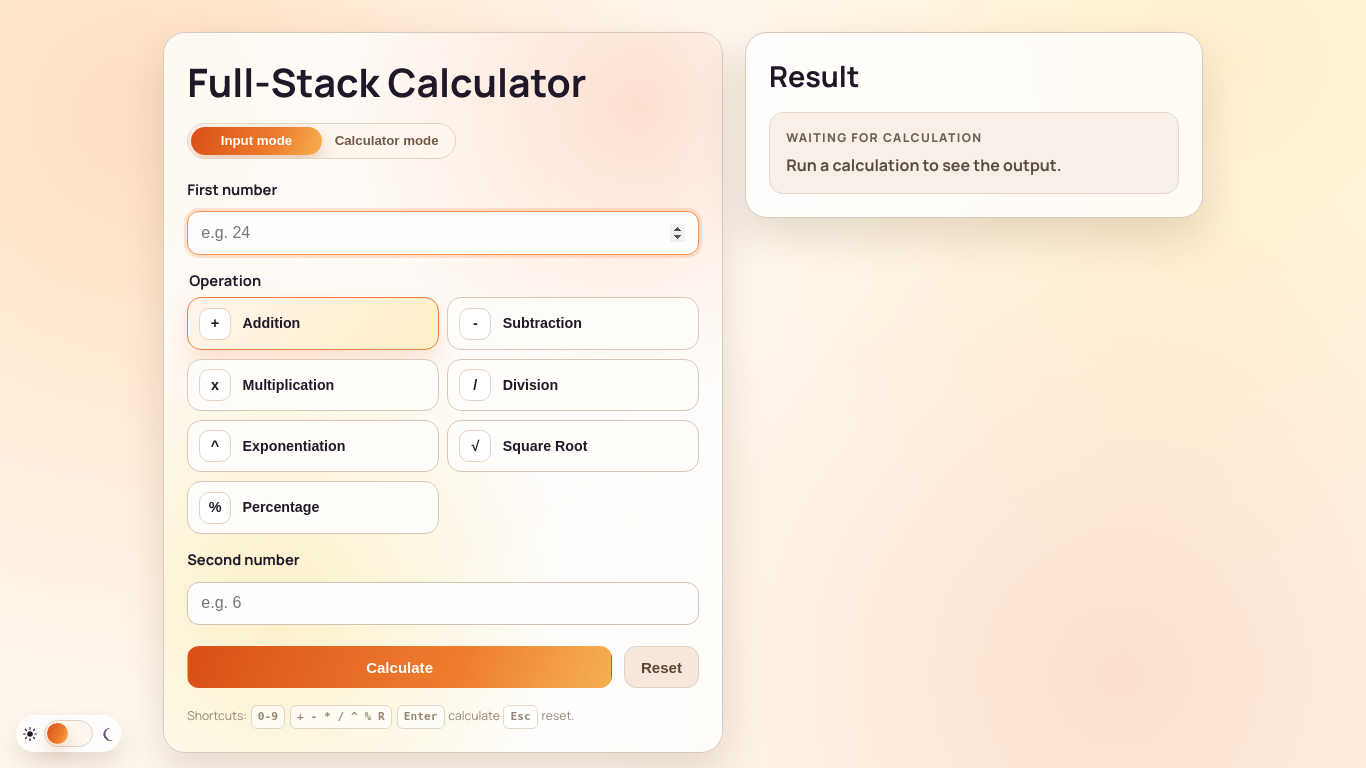
Test: App › submits values and renders result from API
Step 1. Type "24" into the number field labelled "First number" → x=443, y=233, box [187,211,699,255]
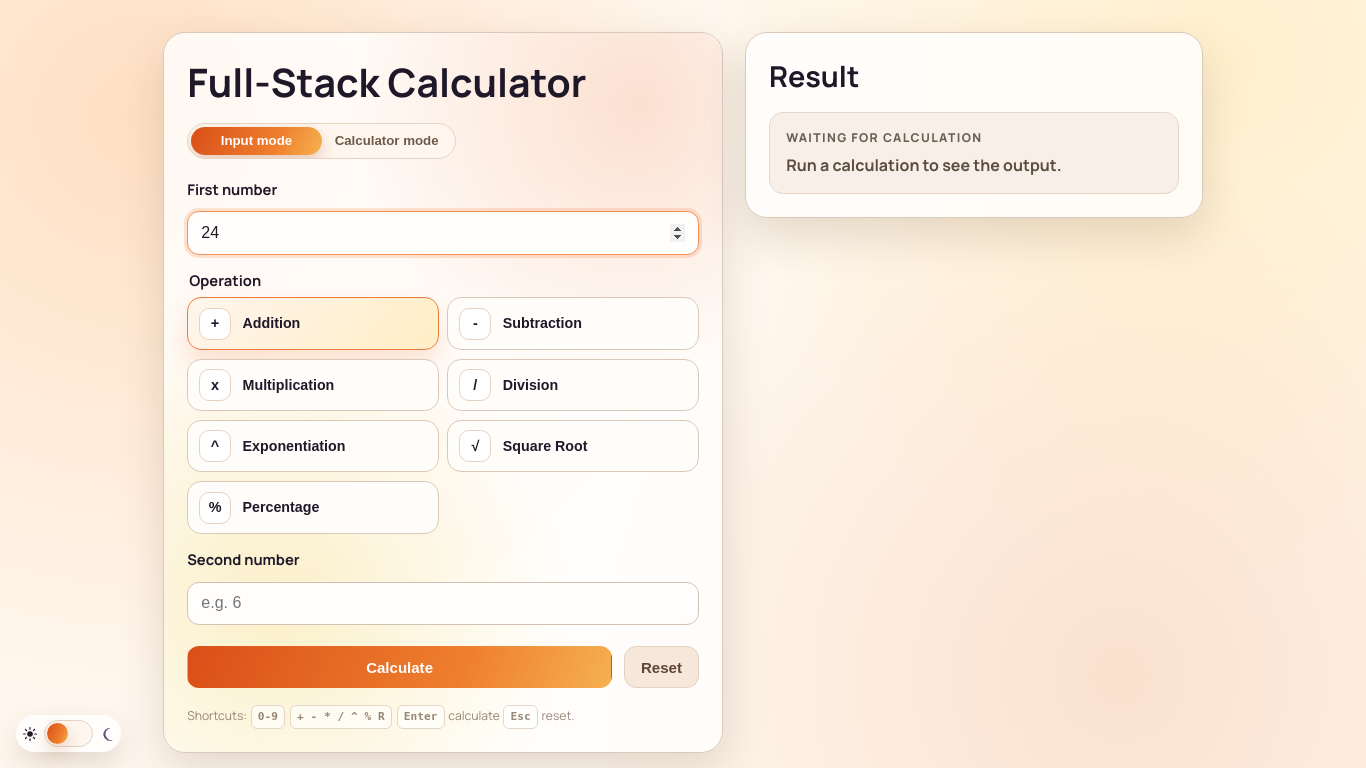
Step 2. Click the button with aria-label "Addition (+)" → x=313, y=324, box [187,297,439,350]
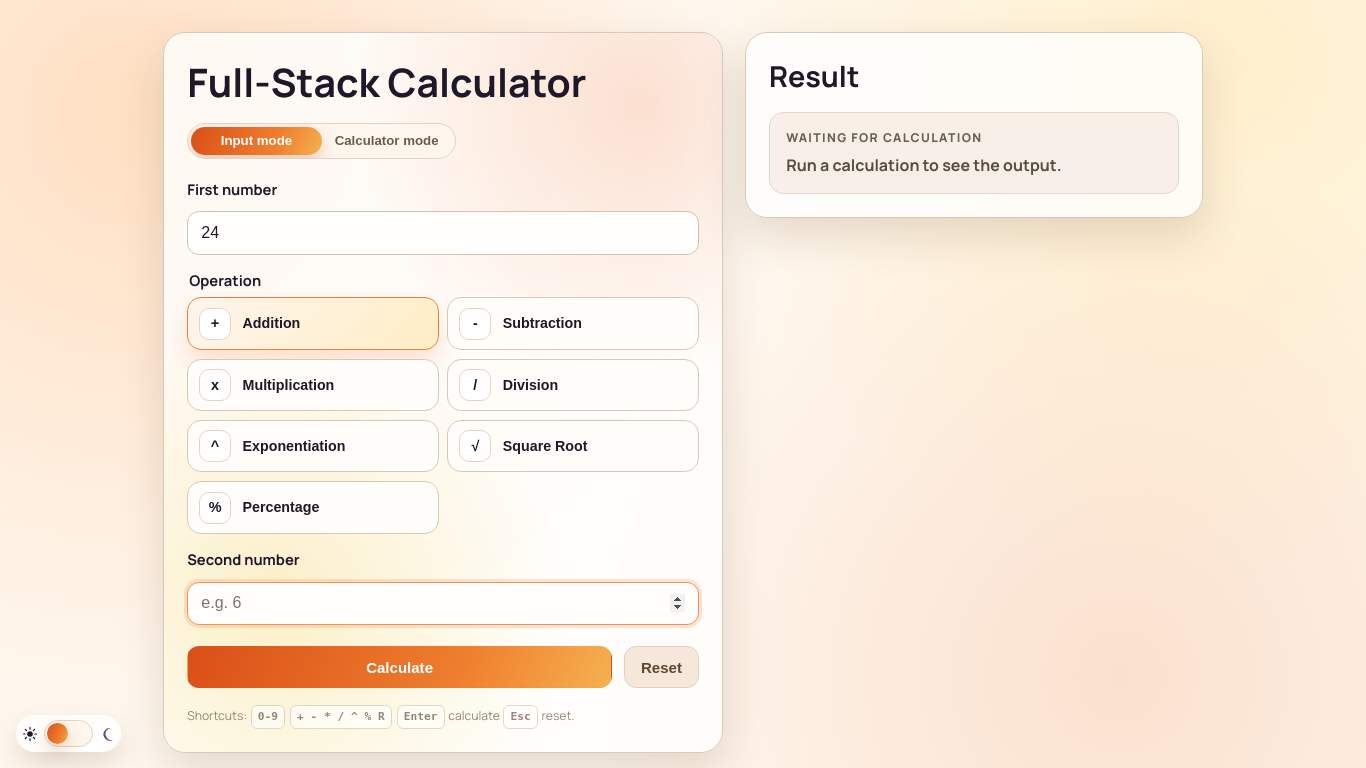
Step 3. Type "6" into the number field labelled "Second number" → x=443, y=603, box [187,582,699,625]
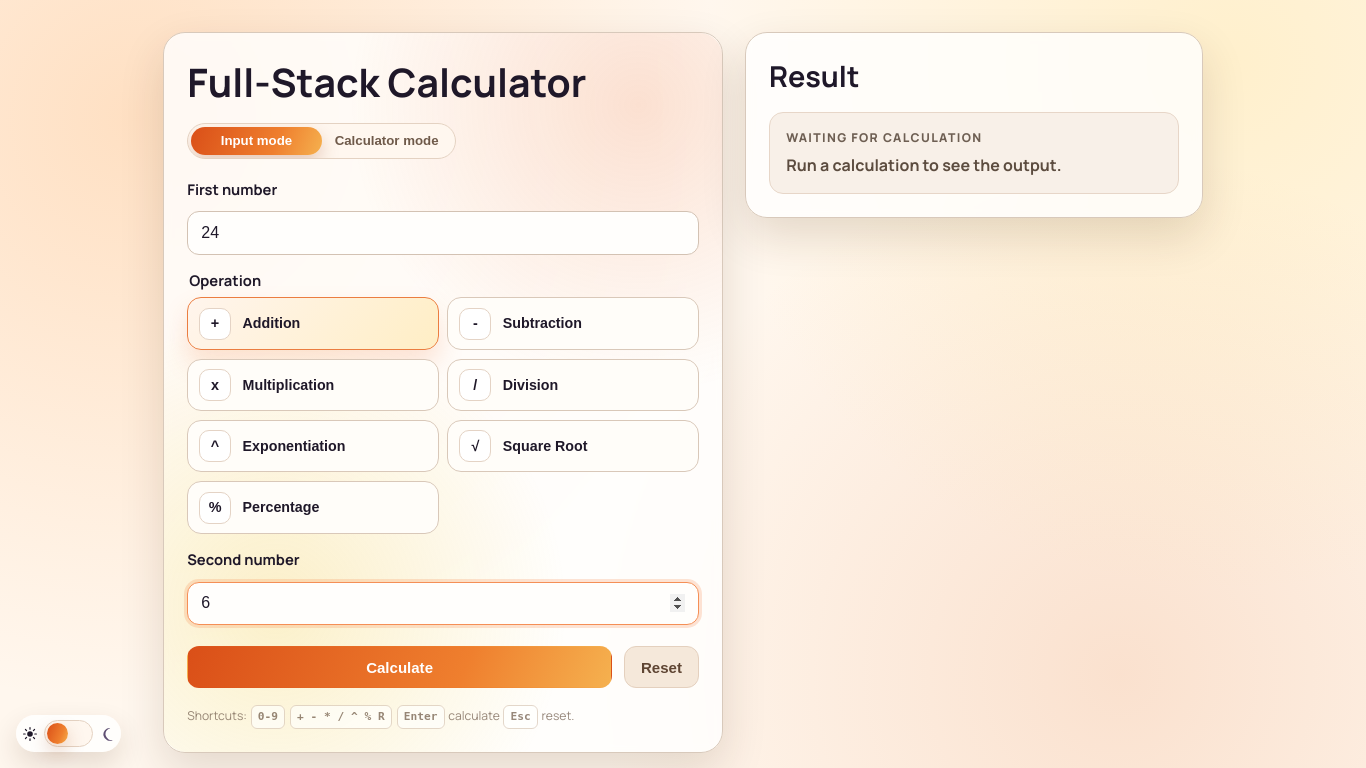
Step 4. Click the button "Calculate" → x=400, y=667, box [187,646,612,688]
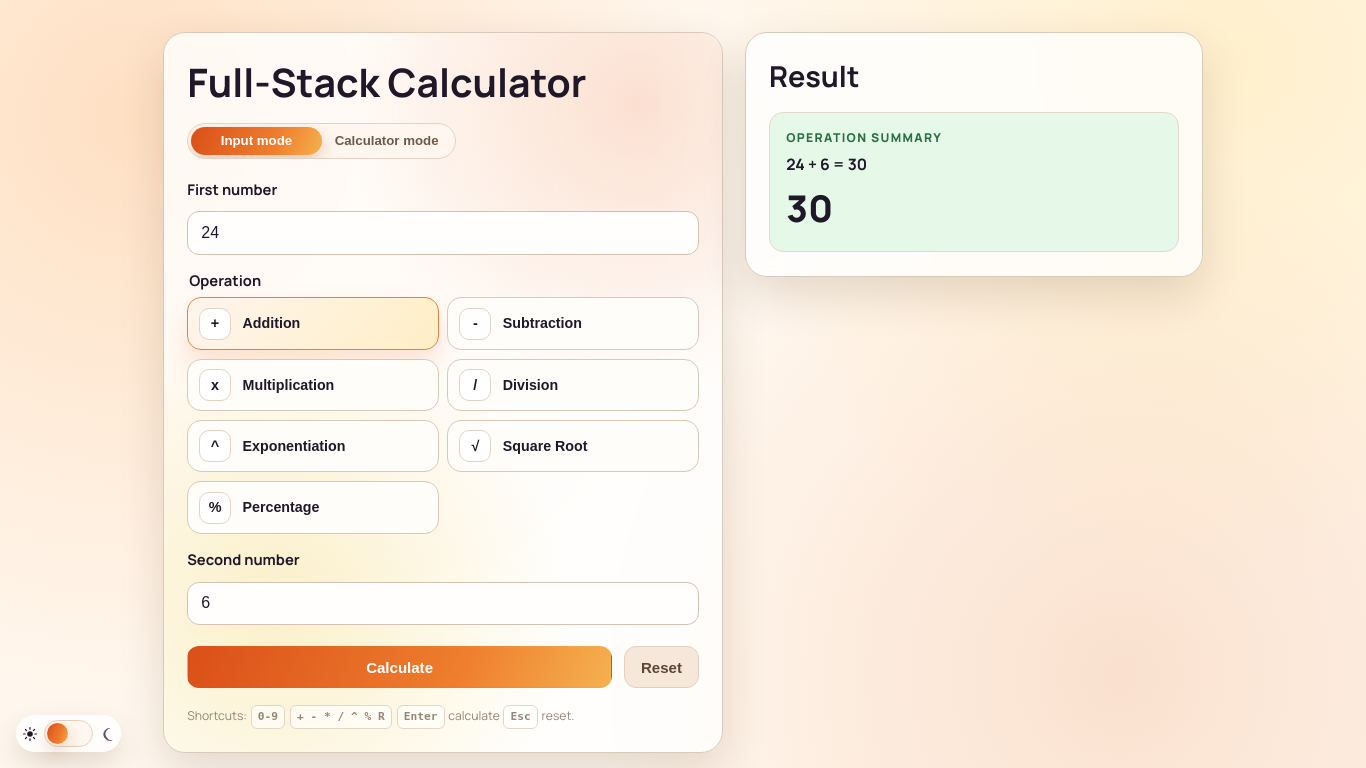
Expected: the text "30" is shown, [786,184,834,234]
